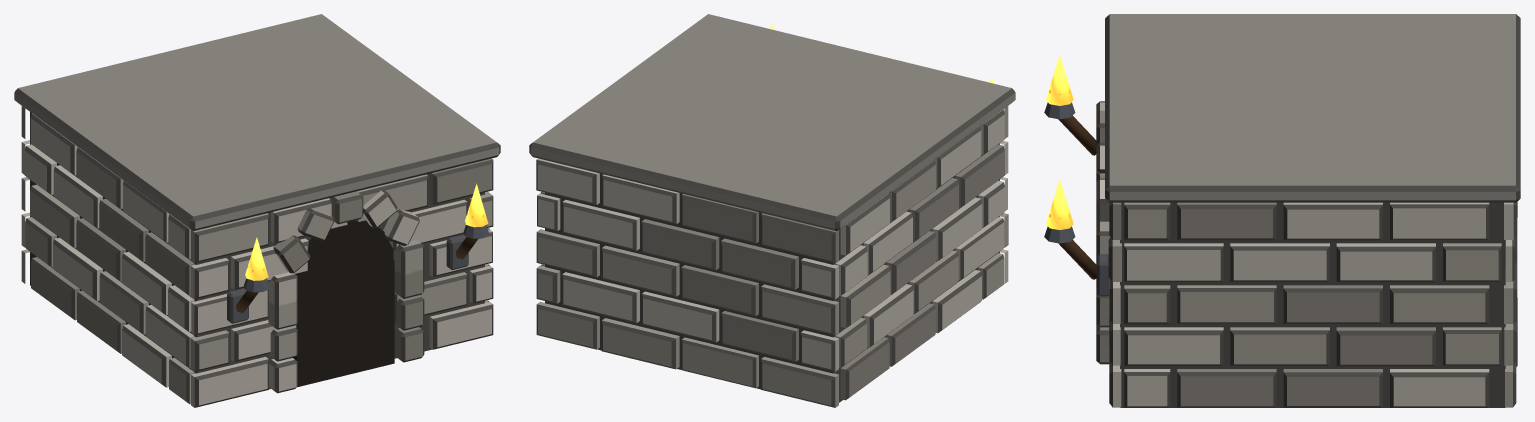
Rendered from block_stone_body_arch.glb.
3 renders of one model, left to right at view 1: azimuth 30°, elevation 25°; view 2: azimuth 150°, elevation 25°; view 3: azimuth 270°, elevation 25°, orthographic. The views are drawn at different scales.
Visible parts, largest first — view 1: StoneBodyArch; view 2: StoneBodyArch; view 3: StoneBodyArch.
Boxes of the visible parts, x1,y1,x2,y2 form: StoneBodyArch: (14,14,500,407); StoneBodyArch: (529,14,1015,407); StoneBodyArch: (1044,14,1520,407).
Bounding box in the file's own units: 1.33 × 0.8 × 1.53.
